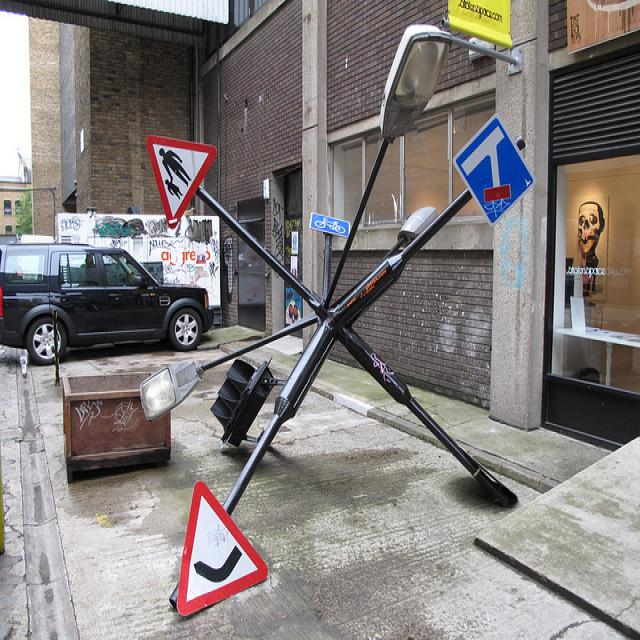Vehicle: (0, 243, 214, 365), (0, 246, 214, 364), (19, 209, 225, 312)
